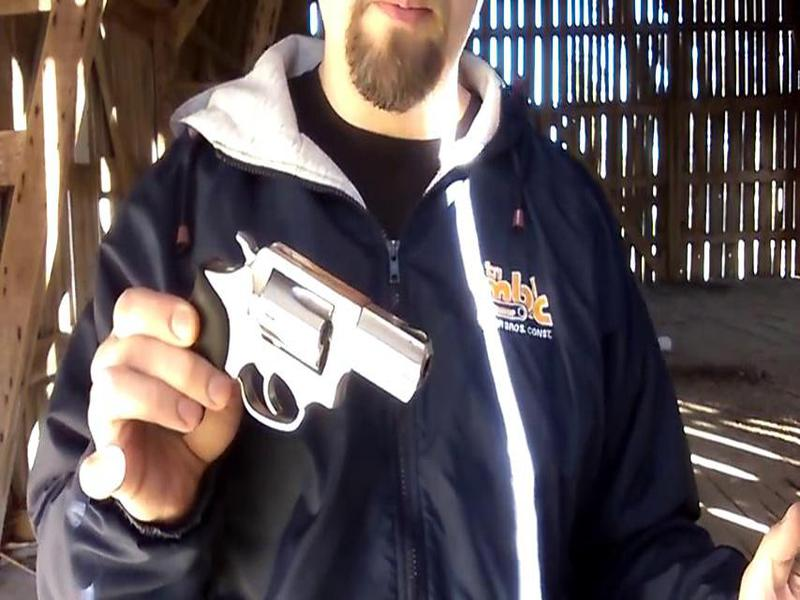Revolver: (133, 208, 446, 489)
